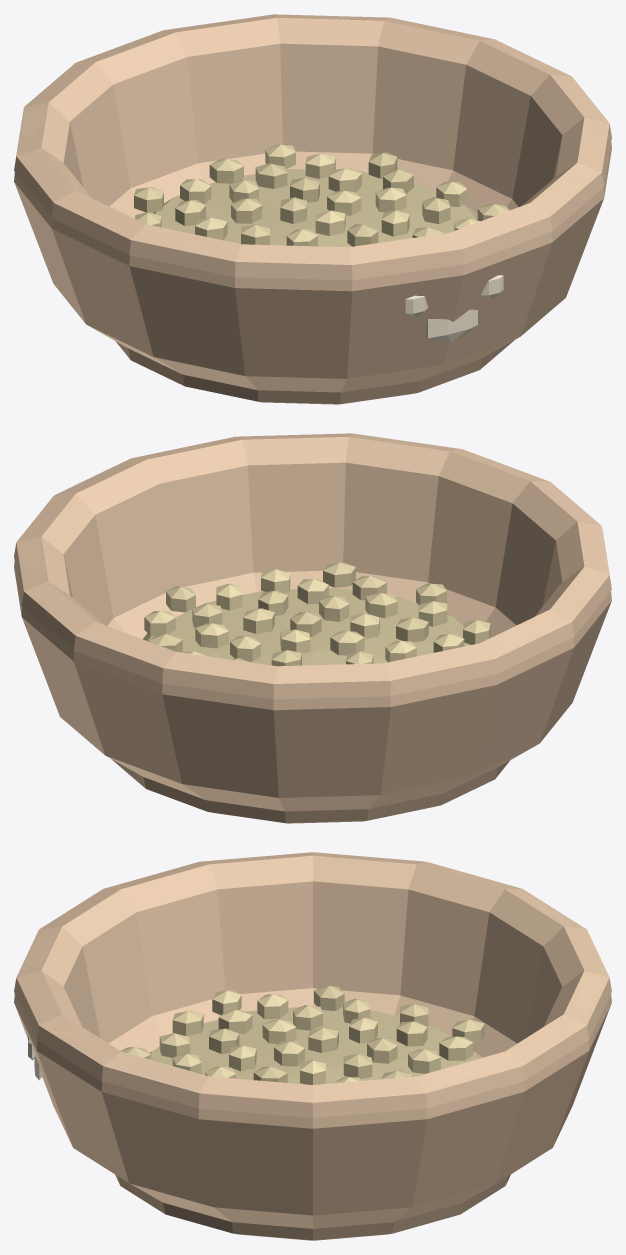
Rendered from crafted-coop-food-1.glb.
3 views of the same model, one above another, from view 1: azimuth 30°, elevation 25°; view 2: azimuth 150°, elevation 25°; view 3: azimuth 270°, elevation 25° (orthographic).
Visible parts, largest first — view 1: ceramic-bowl, glazed-rim, ration-volume, foot-ring, paw-pad, ration-granule-36, ration-granule-23, ration-granule-7, ration-granule-18, ration-granule-5, ration-granule, ration-granule-13 (+16 smaller); view 2: ceramic-bowl, glazed-rim, ration-volume, foot-ring, ration-granule-13, ration-granule-14, ration-granule-45, ration-granule-1, ration-granule-8, ration-granule-19, ration-granule-11, ration-granule-34 (+15 smaller); view 3: ceramic-bowl, glazed-rim, ration-volume, foot-ring, ration-granule-28, ration-granule-9, ration-granule-15, ration-granule-35, ration-granule-20, ration-granule-30, ration-granule-4, ration-granule-1 (+14 smaller).
Part boxes in pixels (x1,y1,x2,y2): ceramic-bowl: [14, 14, 611, 392]; glazed-rim: [14, 14, 611, 280]; ration-volume: [153, 169, 477, 247]; foot-ring: [116, 340, 514, 404]; paw-pad: [426, 309, 477, 343]; ration-granule-36: [209, 159, 243, 183]; ration-granule-23: [255, 163, 287, 188]; ration-granule-7: [231, 198, 262, 223]; ration-granule-18: [328, 168, 361, 192]; ration-granule-5: [327, 191, 361, 215]; ration-granule: [315, 210, 345, 235]; ration-granule-13: [375, 187, 406, 212]; ceramic-bowl: [14, 433, 611, 811]; glazed-rim: [14, 433, 611, 699]; ration-volume: [143, 588, 470, 665]; foot-ring: [111, 759, 509, 823]; ration-granule-13: [195, 623, 228, 648]; ration-granule-14: [396, 617, 428, 642]; ration-granule-45: [323, 562, 355, 587]; ration-granule-1: [330, 631, 364, 655]; ration-granule-8: [243, 608, 274, 633]; ration-granule-19: [365, 593, 397, 618]; ration-granule-11: [319, 595, 349, 621]; ration-granule-34: [144, 611, 175, 635]; ceramic-bowl: [14, 852, 611, 1228]; glazed-rim: [14, 852, 611, 1117]; ration-volume: [150, 1006, 482, 1084]; foot-ring: [115, 1174, 510, 1240]; ration-granule-28: [439, 1036, 473, 1060]; ration-granule-9: [262, 1019, 296, 1043]; ration-granule-15: [408, 1049, 440, 1073]; ration-granule-35: [172, 1010, 203, 1035]; ration-granule-20: [396, 1021, 427, 1046]; ration-granule-30: [257, 994, 288, 1019]; ration-granule-4: [308, 1027, 338, 1052]; ration-granule-1: [274, 1041, 304, 1066].
Bounding box in the file's own units: 0.76 × 0.265 × 0.76.
